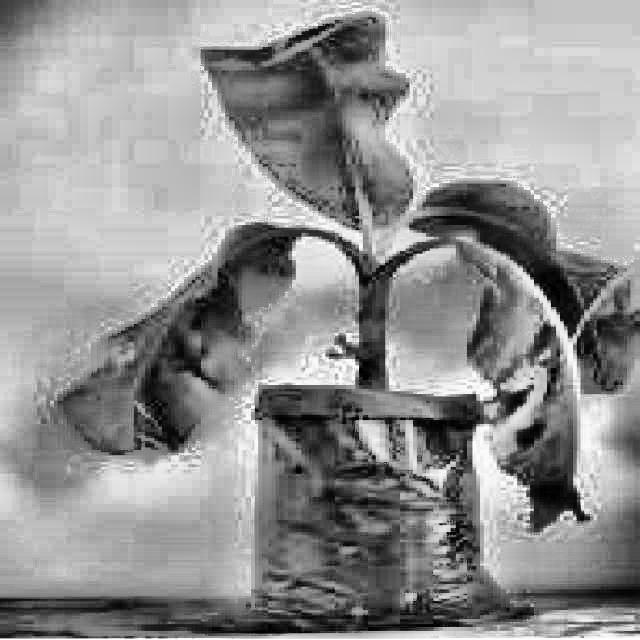plants: (50, 5, 638, 639), (441, 234, 602, 532), (64, 306, 226, 470)
